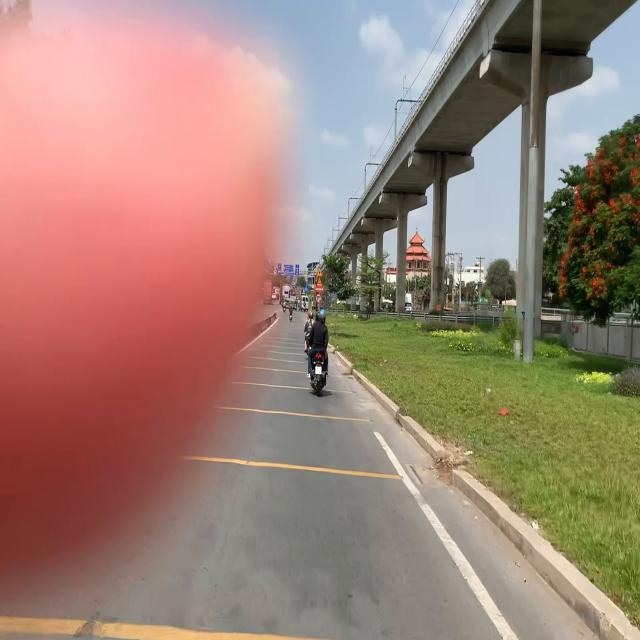bien_nguy_hiem: (316, 293, 322, 303), (316, 278, 323, 286)
